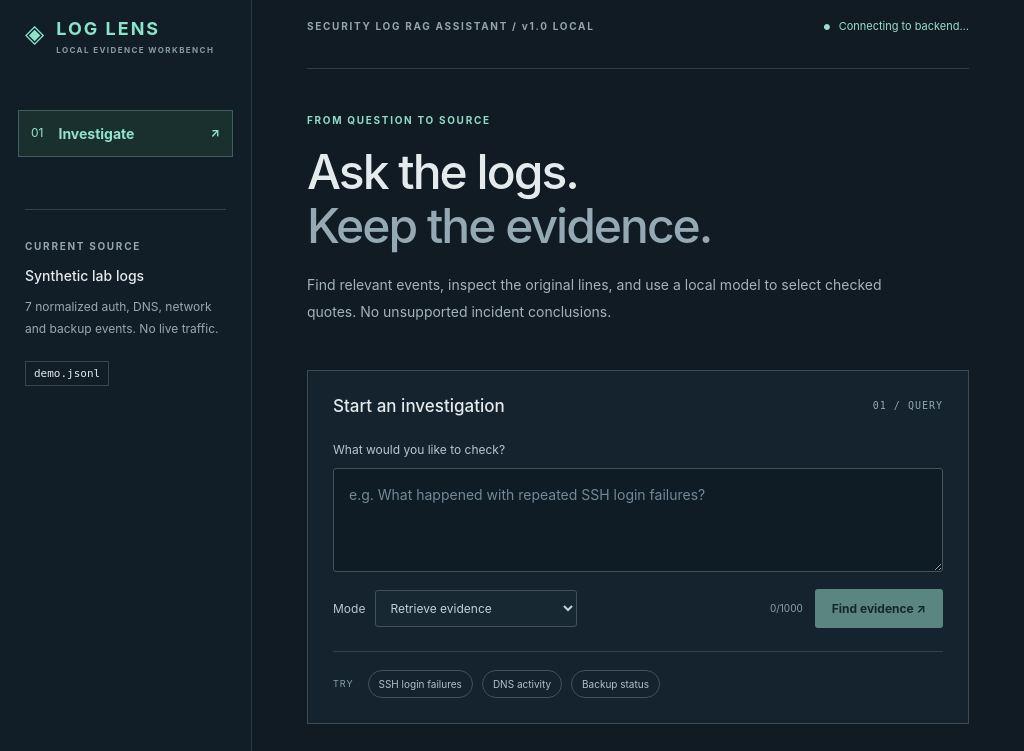
Test case: evidence workbench › renders checked citations
The width and height of the screenshot is (1024, 751).
Type "SSH failures" into the text box labelled "What would you like to check?".
click(638, 520); type("SSH failures")  # box left=333, top=468, right=943, bottom=572
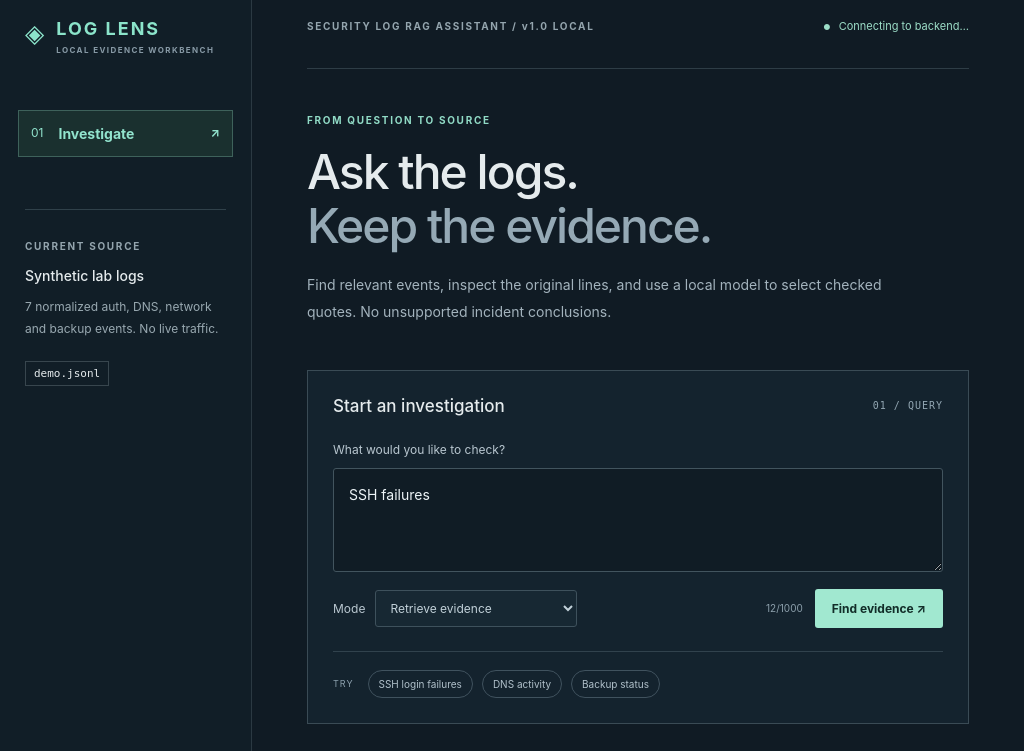
Click the button "Find evidence ↗".
click(879, 608)  # box left=815, top=589, right=943, bottom=628
(page scrolled)
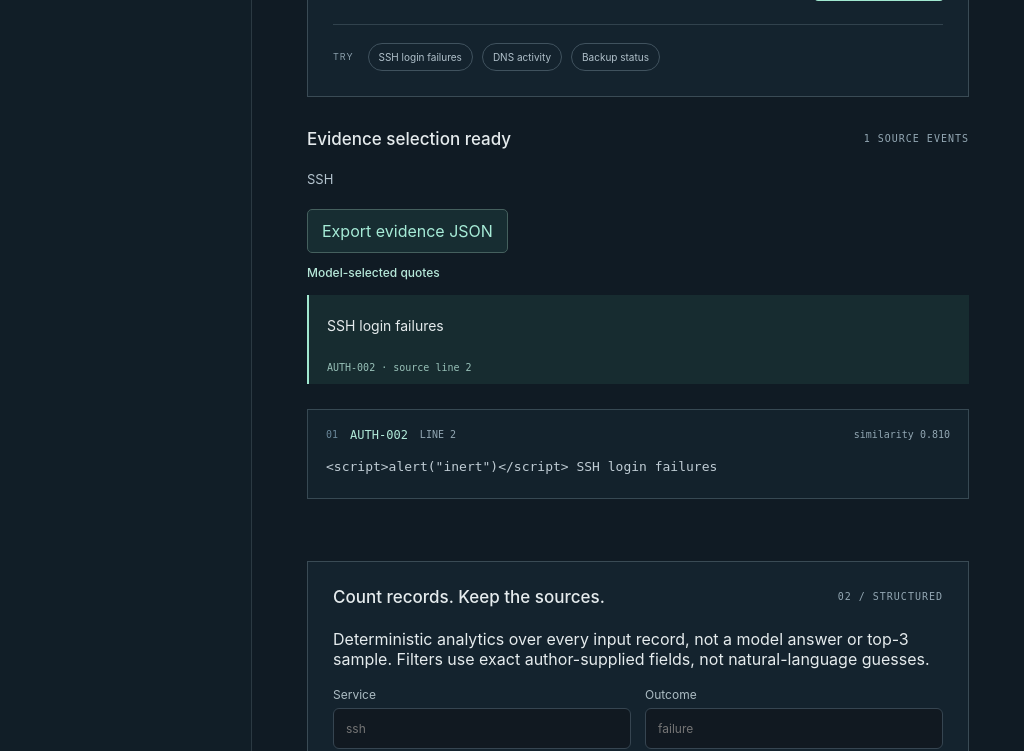
Expected: the heading "Model-selected quotes" is shown, left=307, top=265, right=440, bottom=280
Expected: the text "AUTH-002 · source line 2" is shown, left=327, top=362, right=472, bottom=373
